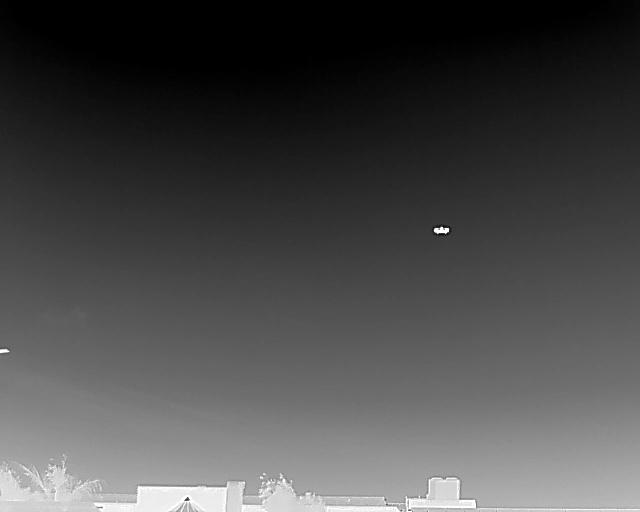fpv-drone: (432, 224, 450, 236)
